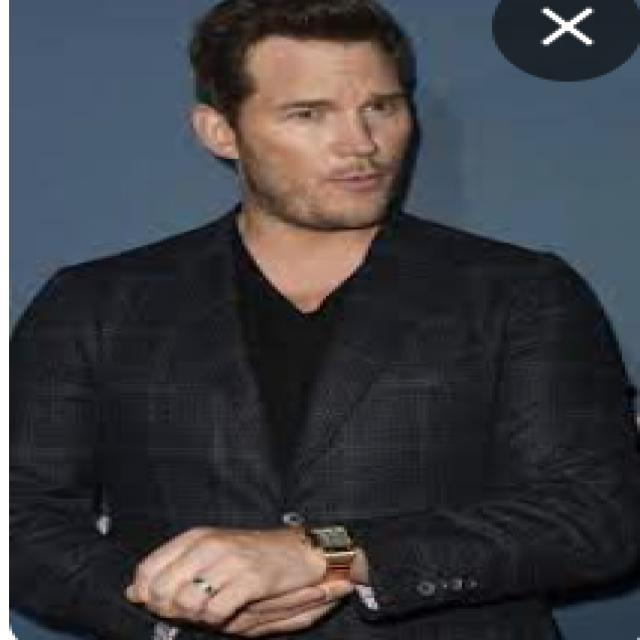Watch: (296, 513, 362, 582)
